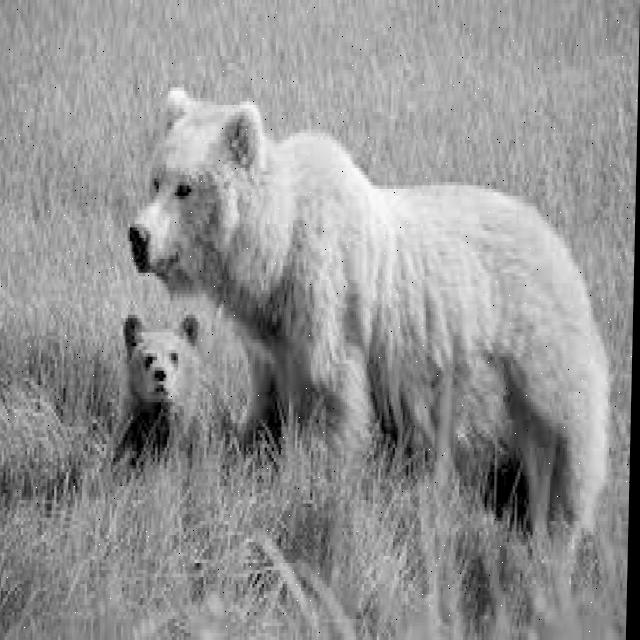Bear: (129, 84, 333, 310), (108, 311, 214, 446)
